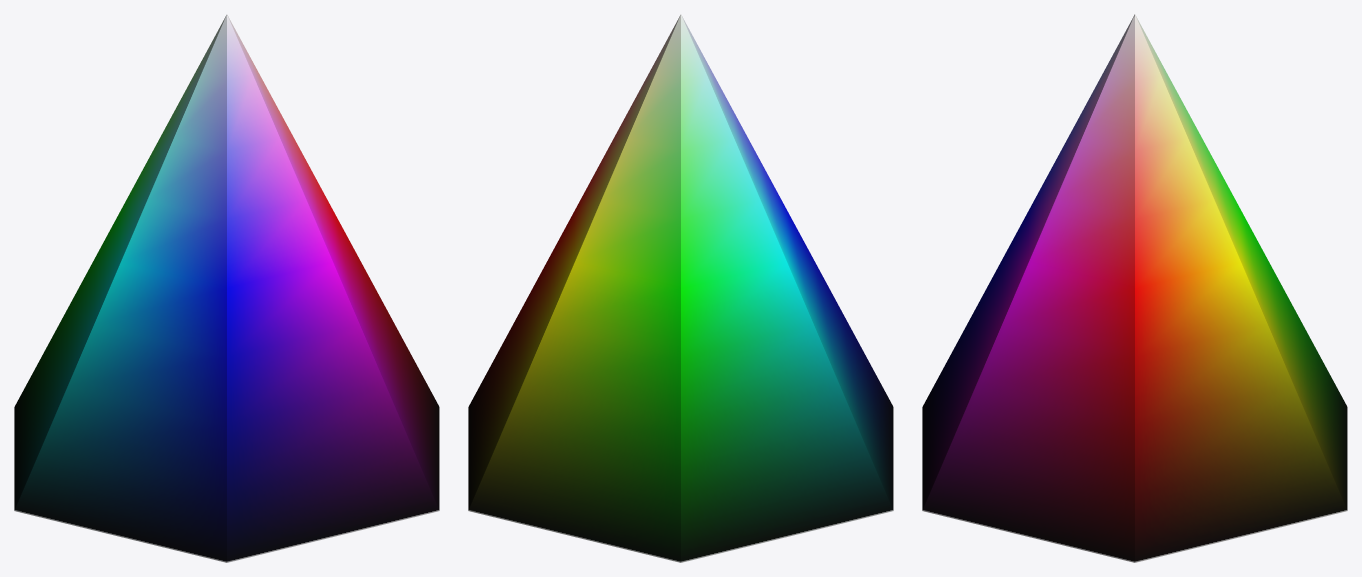
Rendered from color_hsl.obj.
3 renders of one model, left to right at view 1: azimuth 30°, elevation 25°; view 2: azimuth 150°, elevation 25°; view 3: azimuth 270°, elevation 25°, orthographic.
Bounding box in the file's own units: 1 × 1 × 0.866.
1 material, 1 textured.
